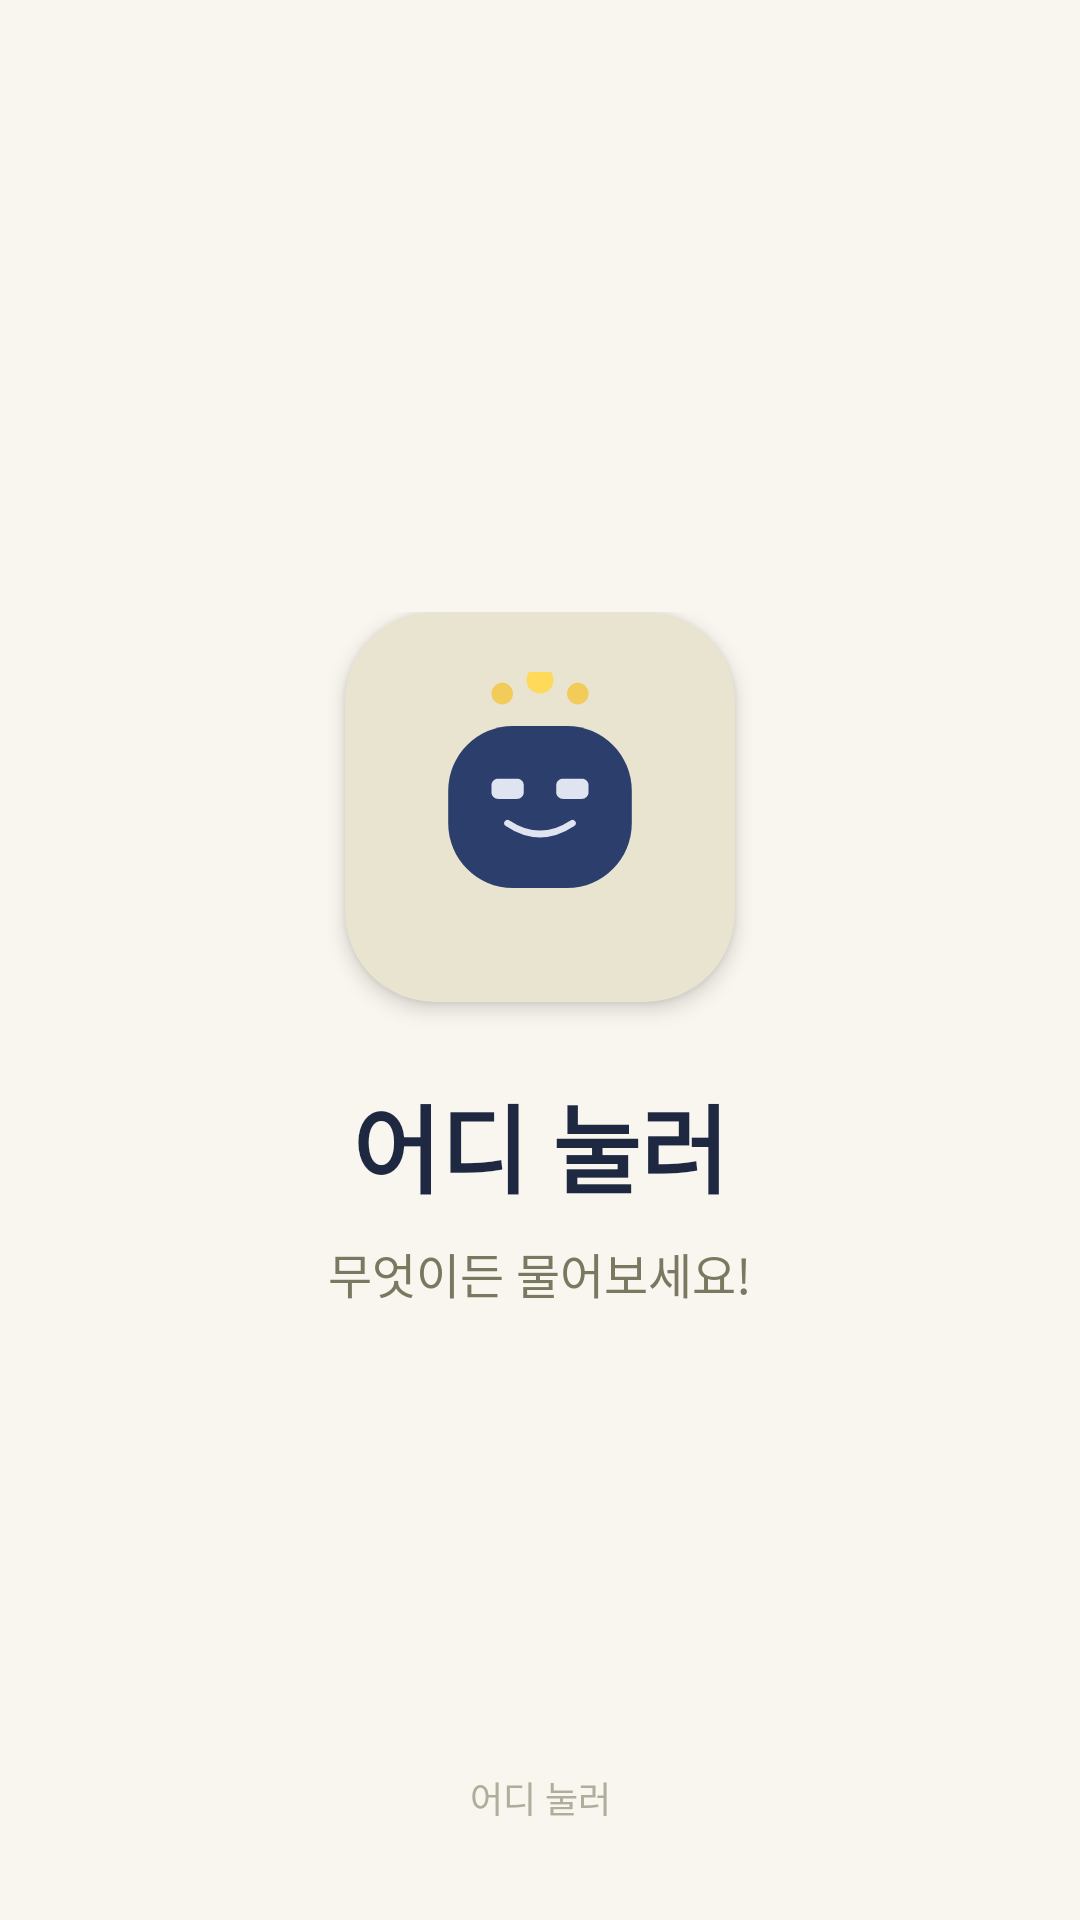

Icon click points for this 1080x1920 phone screenshot, format [x,y]:
로봇 아이콘: [540,780]
